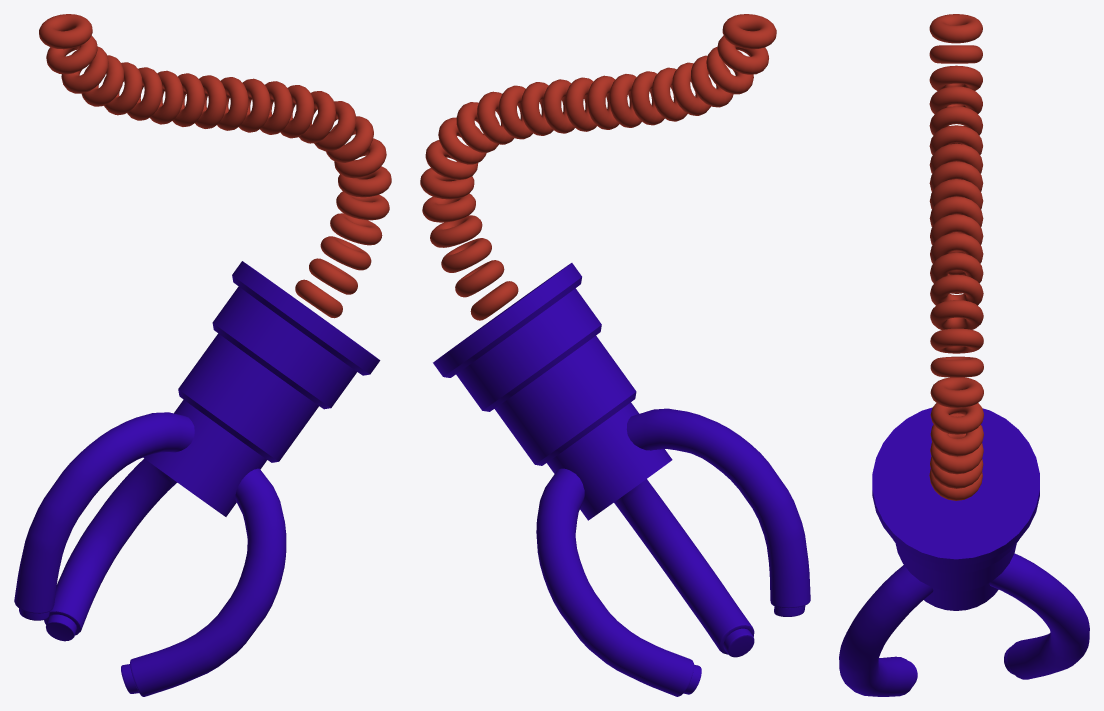
File: claw_mesh_low.fbx
3 views of the same model, side by side, from view 1: azimuth 30°, elevation 25°; view 2: azimuth 150°, elevation 25°; view 3: azimuth 270°, elevation 25° (orthographic). The views are drawn at different scales.
Parts seen in each view (by area): view 1: sm_clawHand_low, sm_clawRibs_low; view 2: sm_clawHand_low, sm_clawRibs_low; view 3: sm_clawHand_low, sm_clawRibs_low.
Boxes of the visible parts, <box> form: sm_clawHand_low: <box>14,261,380,696</box>; sm_clawRibs_low: <box>39,14,391,318</box>; sm_clawHand_low: <box>433,263,810,696</box>; sm_clawRibs_low: <box>420,14,776,320</box>; sm_clawHand_low: <box>839,407,1089,696</box>; sm_clawRibs_low: <box>929,14,983,500</box>.
Size of the model in its own units: 24.04 by 40.41 by 14.05.
